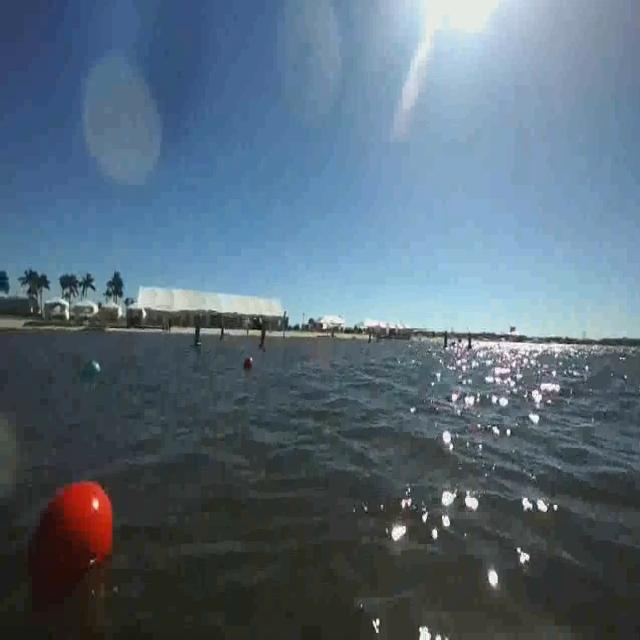green-buoy: (82, 358, 100, 386)
green-column-buoy: (194, 325, 203, 348)
red-buoy: (26, 479, 116, 602), (243, 358, 250, 368)
